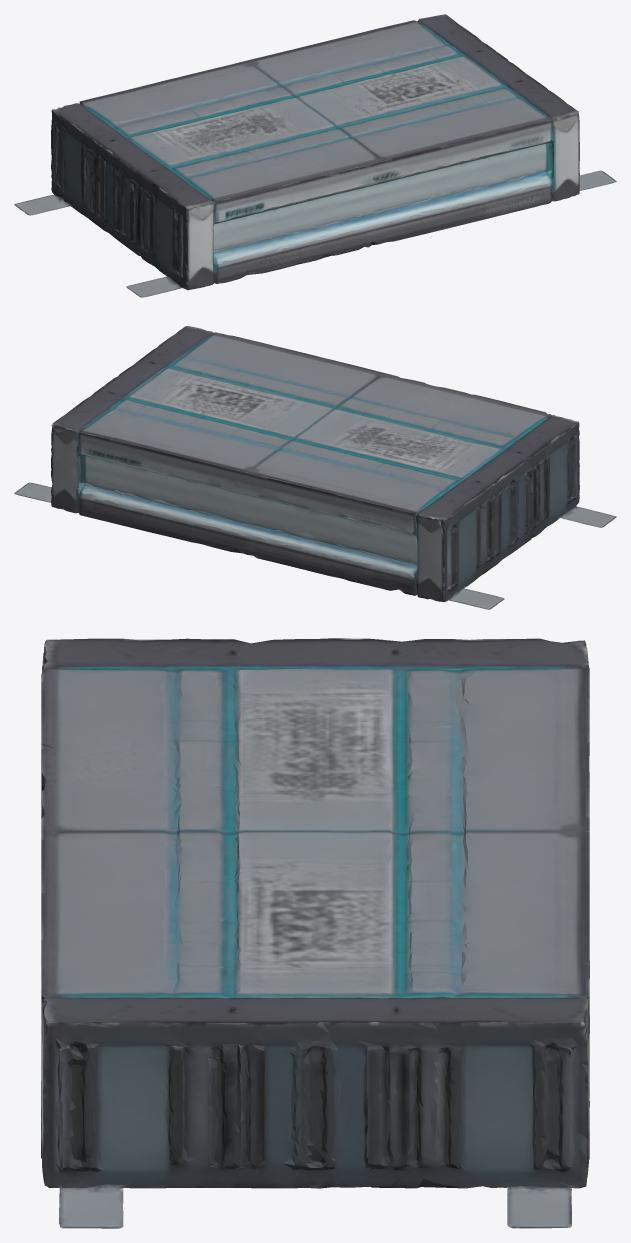
The model's file is rodin_CK1_Wall_raw2.glb.
The picture shows the model from 3 angles, top to bottom: view 1: azimuth 30°, elevation 25°; view 2: azimuth 150°, elevation 25°; view 3: azimuth 270°, elevation 25°; orthographic projection. The views are drawn at different scales.
Visible parts, largest first — view 1: model; view 2: model; view 3: model.
Part boxes in pixels (x1,y1,x2,y2): model: [14, 14, 616, 297]; model: [14, 326, 616, 609]; model: [41, 638, 589, 1228].
Bounding box in the file's own units: 1.89 × 0.317 × 0.9441.
1 material, 1 textured.
